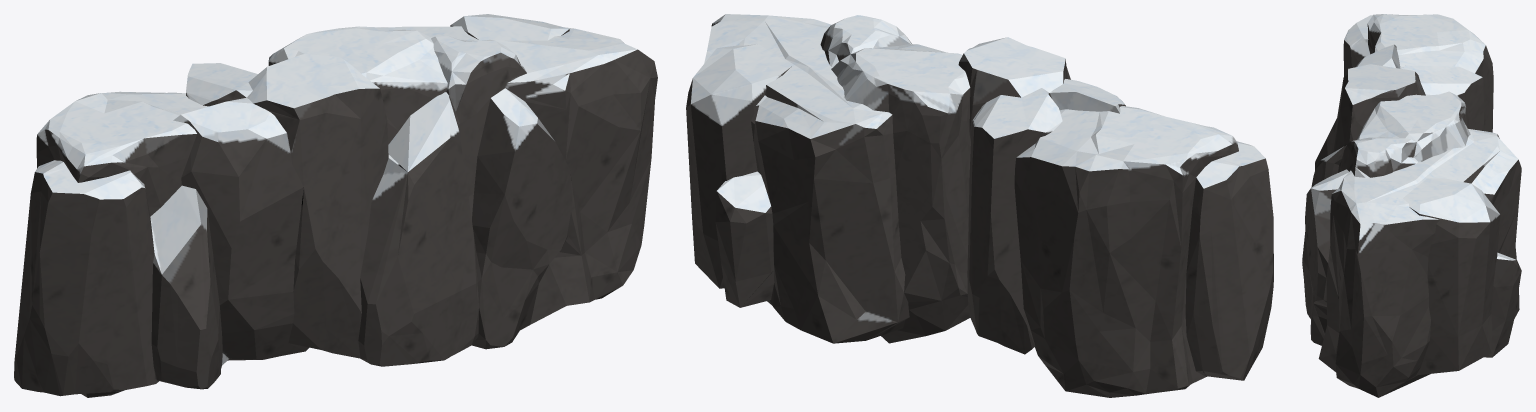
The model's file is cliff_01.gltf.
The picture shows the model from 3 angles, left to right: view 1: azimuth 30°, elevation 25°; view 2: azimuth 150°, elevation 25°; view 3: azimuth 270°, elevation 25°; orthographic projection. The views are drawn at different scales.
Parts seen in each view (by area): view 1: cliff_01; view 2: cliff_01; view 3: cliff_01.
Part boxes in pixels (left/top/right/bottom): cliff_01: left=14, top=14, right=657, bottom=397; cliff_01: left=686, top=14, right=1273, bottom=397; cliff_01: left=1302, top=14, right=1521, bottom=397.
Size of the model in its own units: 22.27 by 10.23 by 9.14.
1 material, 1 textured.
